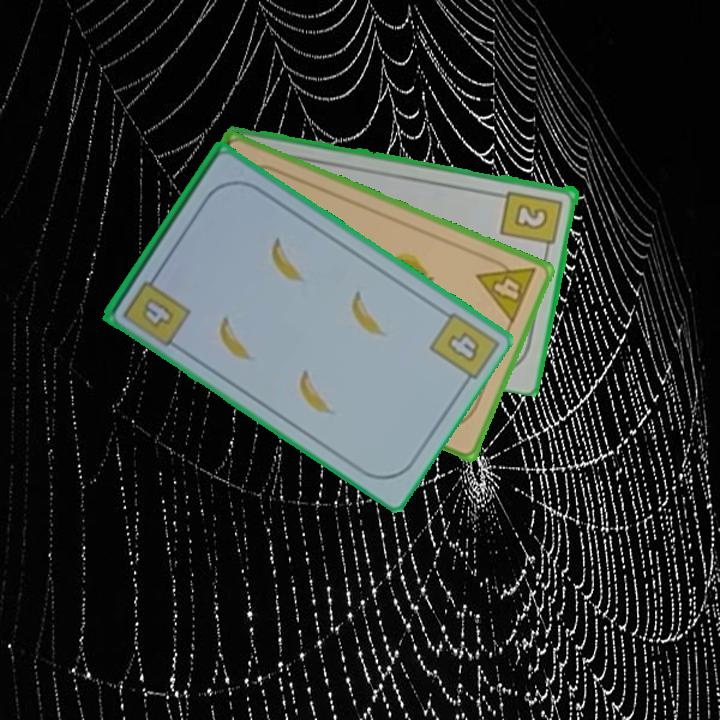2b: (498, 187, 566, 256)
4b: (119, 267, 193, 346), (443, 328, 484, 365)
4p: (473, 251, 539, 327)
